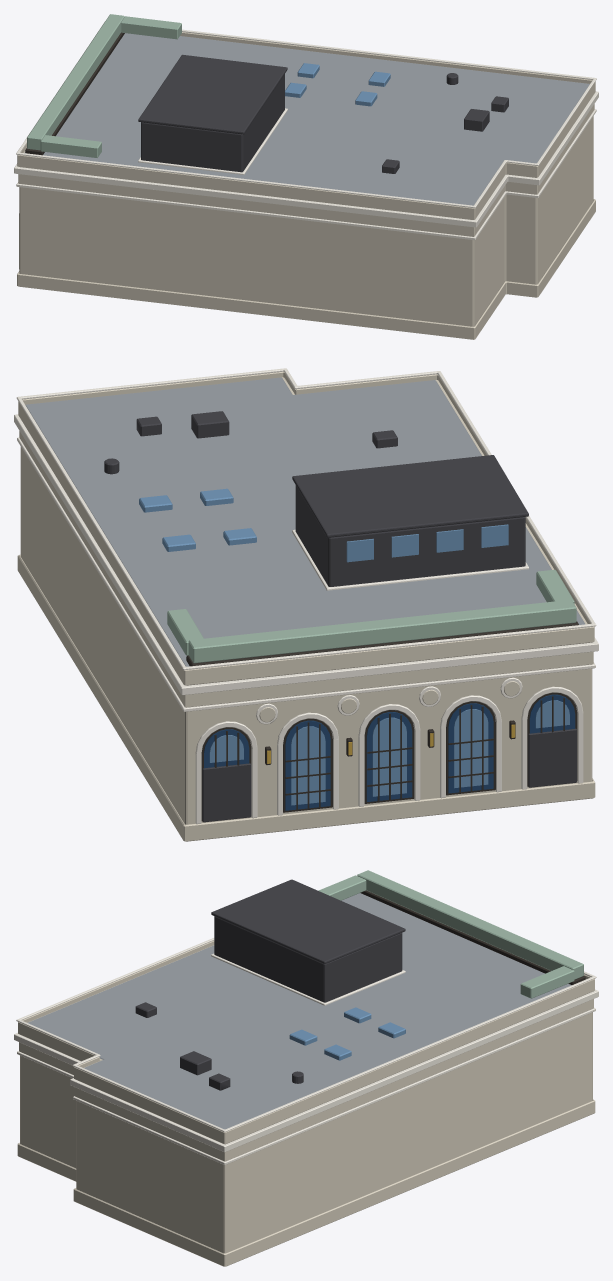
The model's file is 35-south-park.optimized.glb.
3 views of the same model, one above another, from view 1: azimuth 30°, elevation 25°; view 2: azimuth 150°, elevation 25°; view 3: azimuth 270°, elevation 25° (orthographic). The views are drawn at different scales.
Parts seen in each view (by area): view 1: grp_Toy_stone, roof_slab, grp_Toy_roofd, grp_Toy_trim, grp_Toy_verdigris, grp_Toy_glassl, grp_Toy_ink; view 2: roof_slab, grp_Toy_stone, grp_Toy_roofd, grp_Toy_trim, grp_Toy_verdigris, grp_Toy_glass_Glow, grp_Toy_ink, grp_Toy_glass, grp_Toy_glassl; view 3: grp_Toy_stone, roof_slab, grp_Toy_roofd, grp_Toy_trim, grp_Toy_verdigris, grp_Toy_glassl, grp_Toy_ink.
Part boxes in pixels (left/top/right/bottom): grp_Toy_stone: left=17, top=32, right=595, bottom=339; roof_slab: left=25, top=33, right=589, bottom=205; grp_Toy_roofd: left=138, top=54, right=508, bottom=173; grp_Toy_trim: left=14, top=22, right=598, bottom=268; grp_Toy_verdigris: left=27, top=14, right=181, bottom=157; grp_Toy_glassl: left=285, top=63, right=390, bottom=106; grp_Toy_ink: left=25, top=32, right=124, bottom=155; roof_slab: left=25, top=377, right=584, bottom=666; grp_Toy_stone: left=17, top=371, right=595, bottom=841; grp_Toy_roofd: left=104, top=411, right=576, bottom=822; grp_Toy_trim: left=14, top=368, right=598, bottom=824; grp_Toy_verdigris: left=167, top=569, right=576, bottom=663; grp_Toy_glass_Glow: left=209, top=700, right=569, bottom=805; grp_Toy_ink: left=186, top=621, right=578, bottom=820; grp_Toy_glass: left=204, top=694, right=575, bottom=810; grp_Toy_glassl: left=139, top=488, right=508, bottom=562; grp_Toy_stone: left=17, top=940, right=595, bottom=1266; roof_slab: left=28, top=893, right=571, bottom=1129; grp_Toy_roofd: left=135, top=879, right=405, bottom=1090; grp_Toy_trim: left=14, top=938, right=598, bottom=1164; grp_Toy_verdigris: left=318, top=870, right=583, bottom=998; grp_Toy_glassl: left=289, top=1007, right=405, bottom=1060; grp_Toy_ink: left=360, top=890, right=585, bottom=984.
Bounding box in the file's own units: 42.06 × 13.4 × 40.3.
